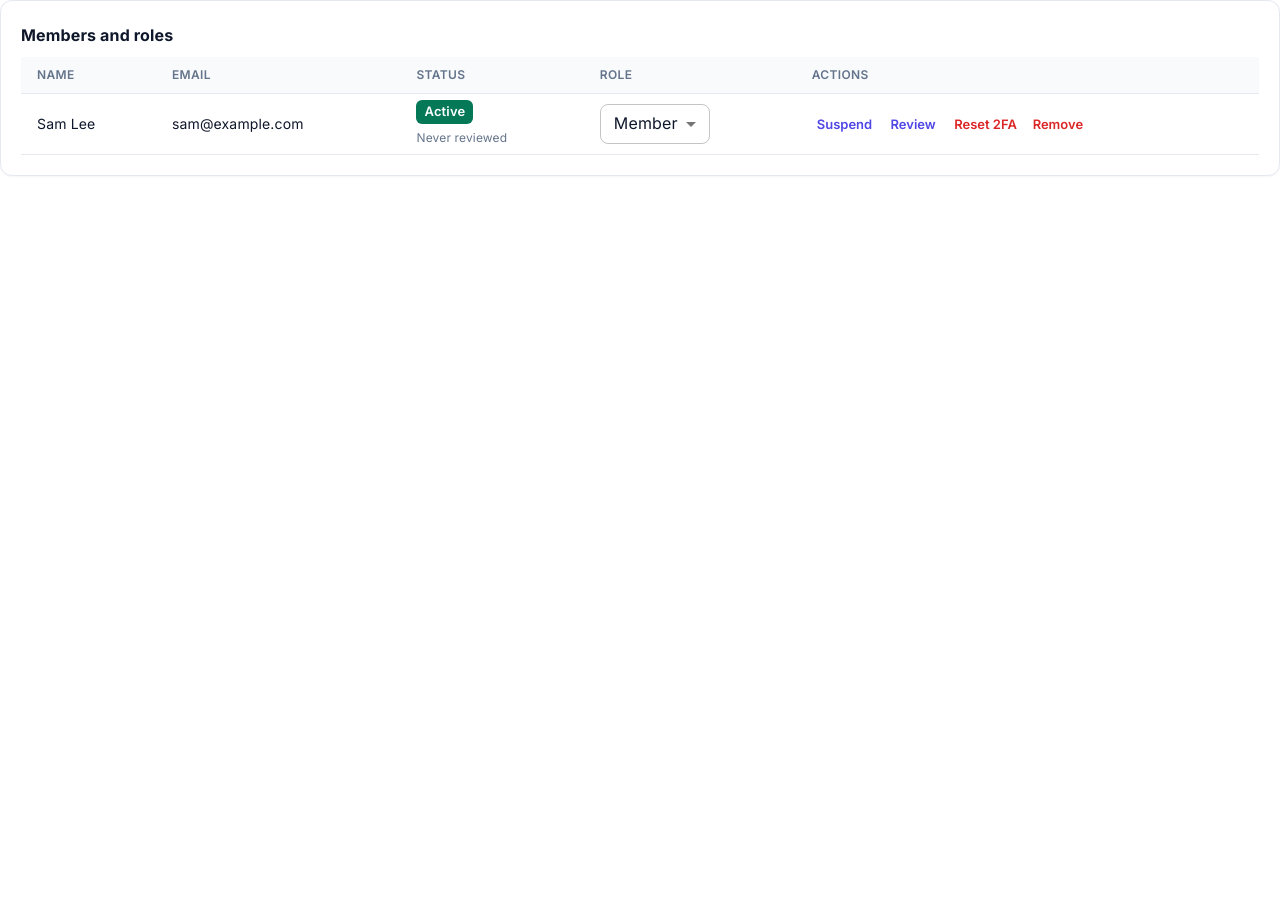
Test: Two-factor reset by an administrator › shows the backend refusal and keeps the dialog open
Click the button with aria-label "Reset two-factor authentication for Sam Lee": (985, 124) [949,109,1022,139]
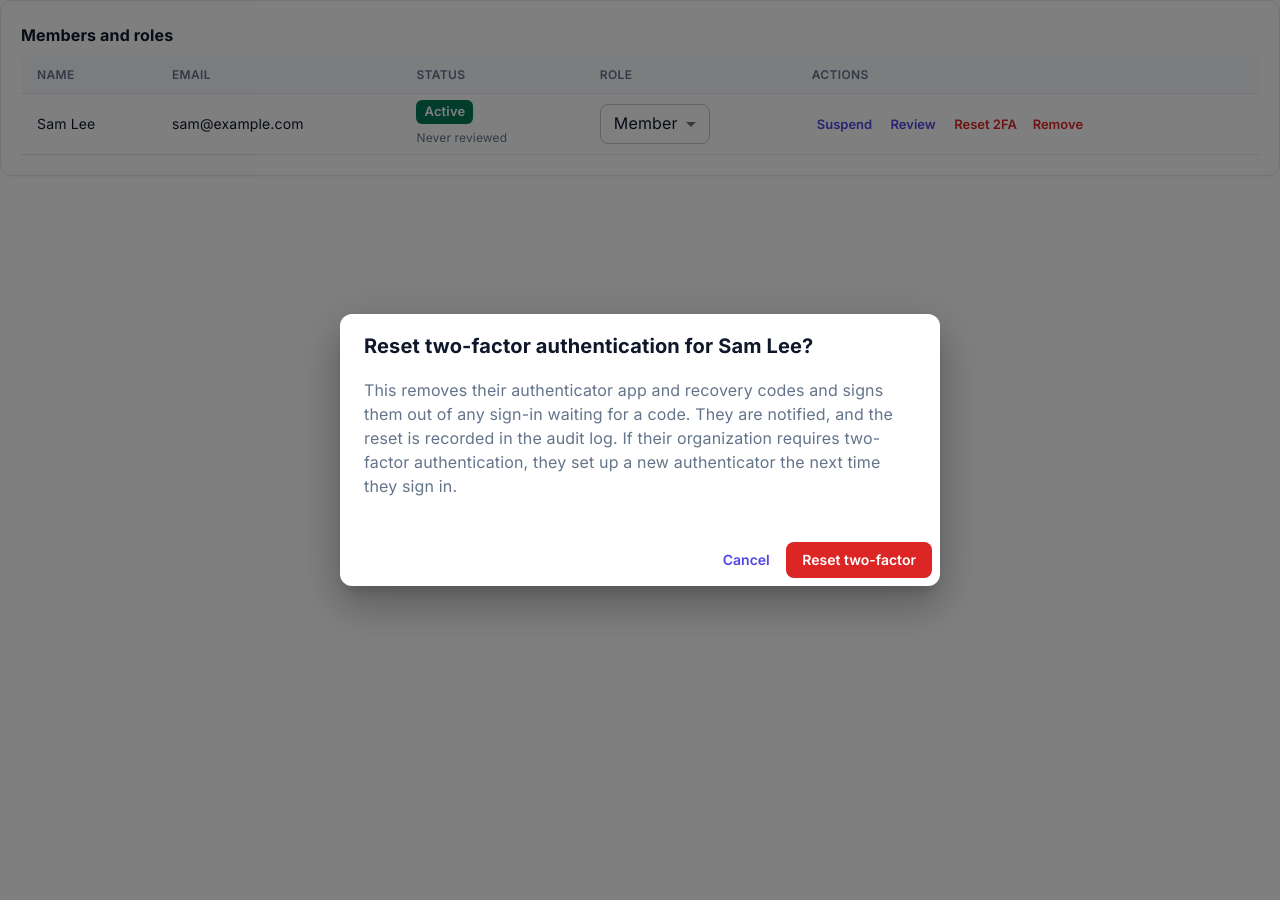
Click the button "Reset two-factor": (859, 560) [786,542,932,578]
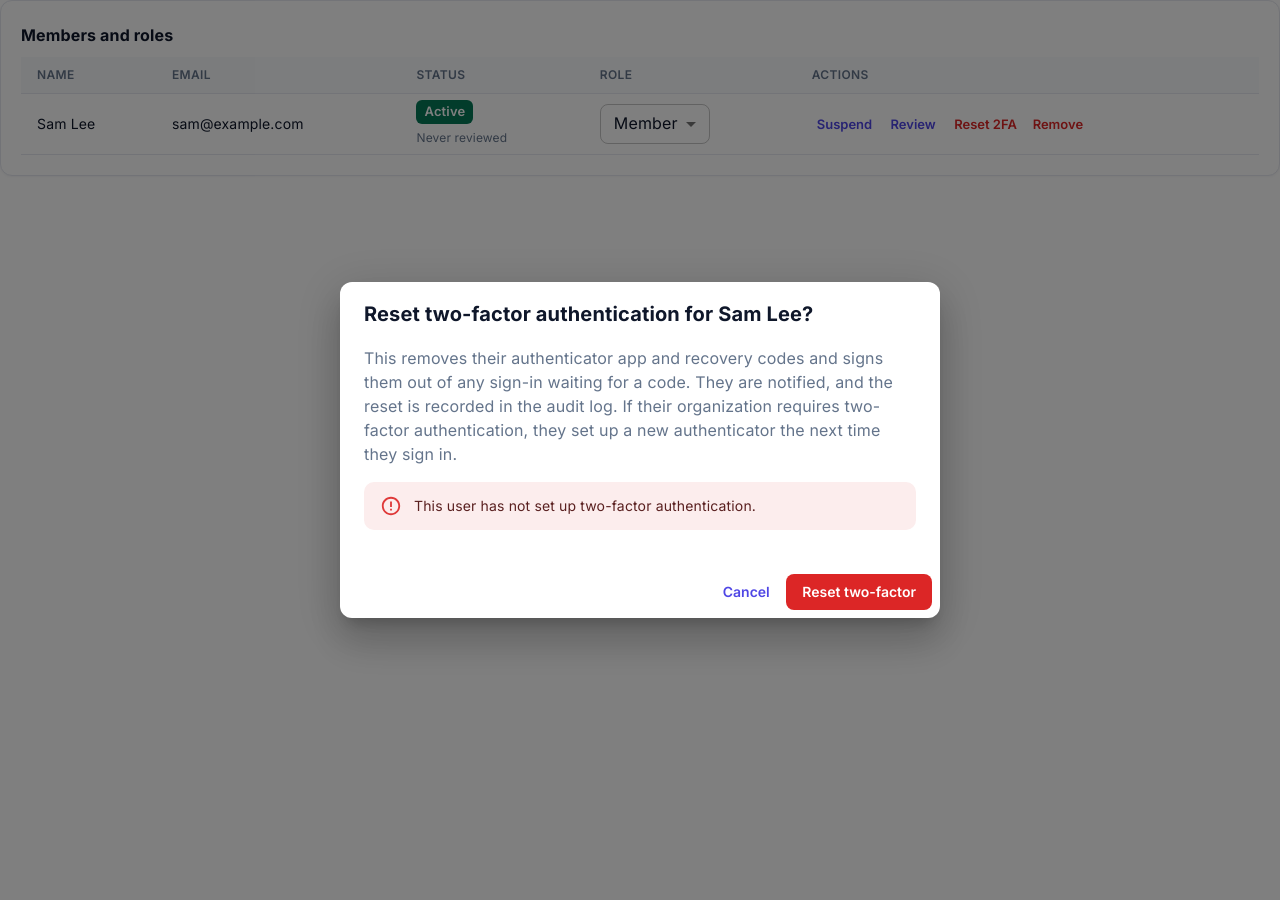
Expected: the text "This user has not set up two-factor authentication." is shown, [414,497,756,514]
